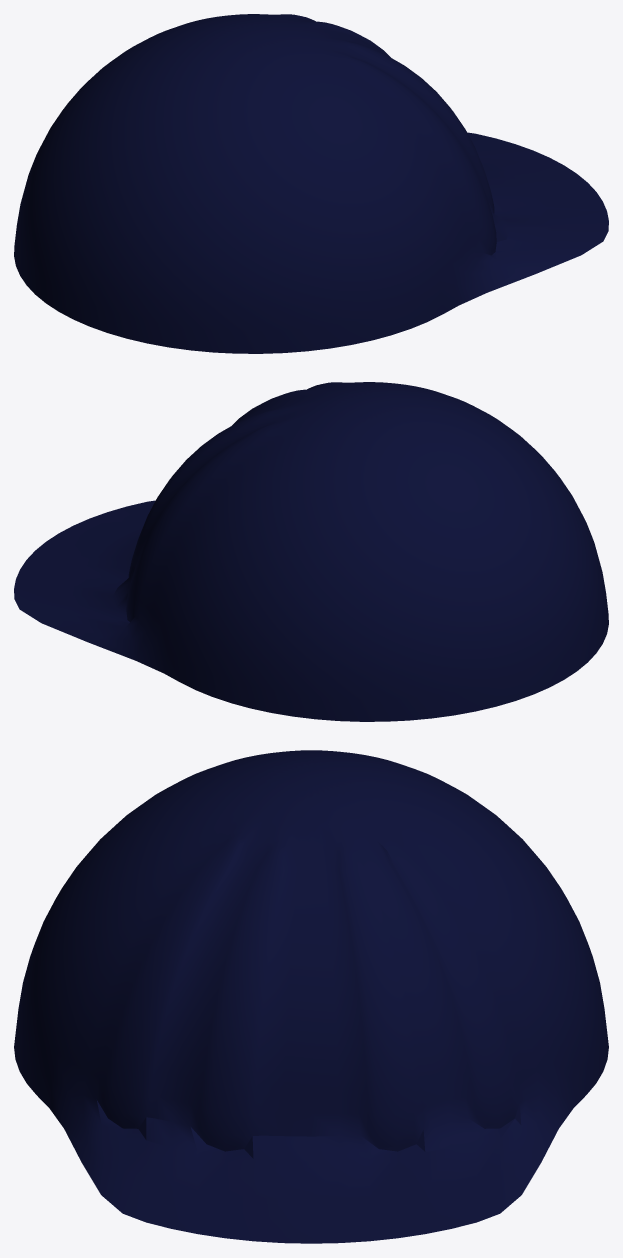
File: halvanic_face_model_1.gltf
The picture shows the model from 3 angles, top to bottom: view 1: azimuth 30°, elevation 25°; view 2: azimuth 150°, elevation 25°; view 3: azimuth 270°, elevation 25°; orthographic projection. The views are drawn at different scales.
Parts seen in each view (by area): view 1: tokar_face_model_1; view 2: tokar_face_model_1; view 3: tokar_face_model_1.
Boxes of the visible parts, x1=… form: tokar_face_model_1: x1=14, y1=14, x2=608, y2=353; tokar_face_model_1: x1=14, y1=382, x2=608, y2=721; tokar_face_model_1: x1=14, y1=750, x2=608, y2=1243.
Size of the model in its own units: 2.55 by 0.9976 by 1.99.
